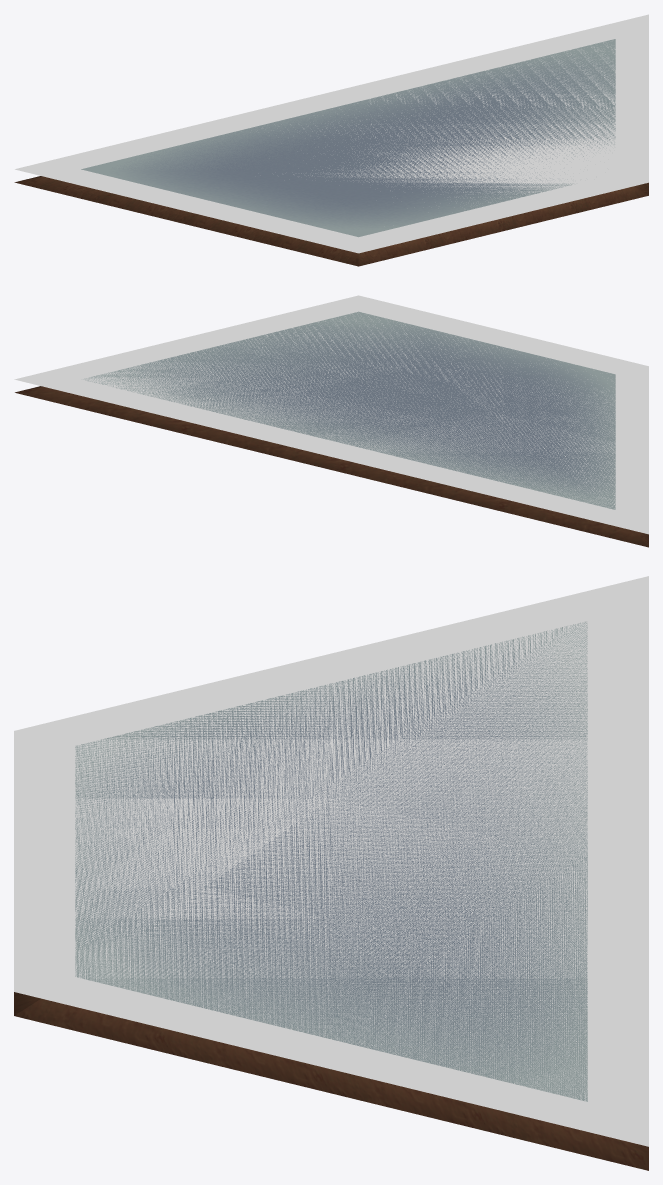
File: pds-trap-inner.glb
3 views of the same model, one above another, from view 1: azimuth 30°, elevation 25°; view 2: azimuth 150°, elevation 25°; view 3: azimuth 270°, elevation 25° (orthographic). The views are drawn at different scales.
Parts seen in each view (by area): view 1: PDS-trap-inner, PDS-trap-inner-COL; view 2: PDS-trap-inner, PDS-trap-inner-COL; view 3: PDS-trap-inner-COL, PDS-trap-inner.
Boxes of the visible parts, x1,y1,x2,y2 form: PDS-trap-inner: [14, 39, 648, 266]; PDS-trap-inner-COL: [15, 14, 648, 253]; PDS-trap-inner: [15, 311, 648, 547]; PDS-trap-inner-COL: [14, 295, 648, 534]; PDS-trap-inner-COL: [14, 576, 648, 1146]; PDS-trap-inner: [14, 621, 648, 1170].
Size of the model in its own units: 21.09 by 0.4153 by 9.92.
1 material, 1 textured.
